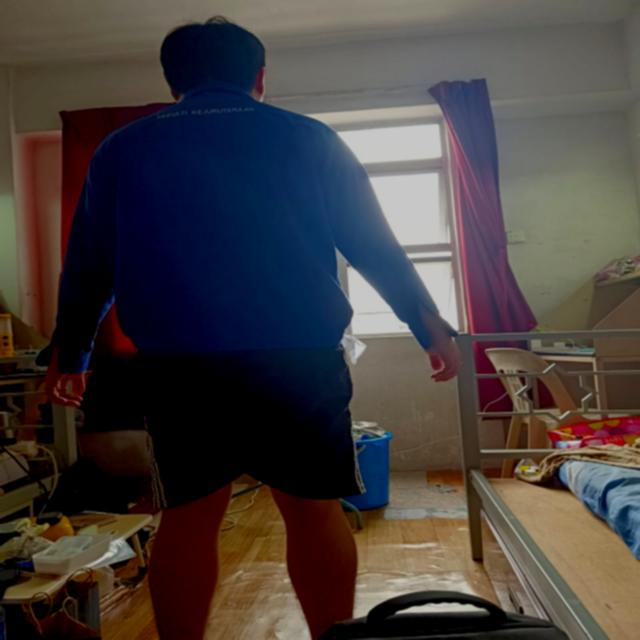person_with_labcoat: (38, 16, 460, 640)
